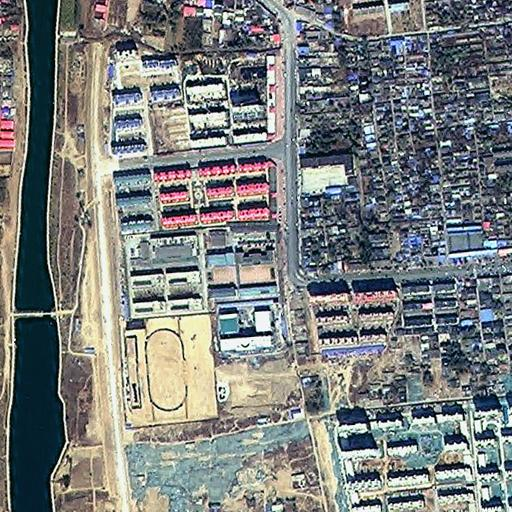school: (122, 229, 280, 428), (296, 151, 358, 198)
